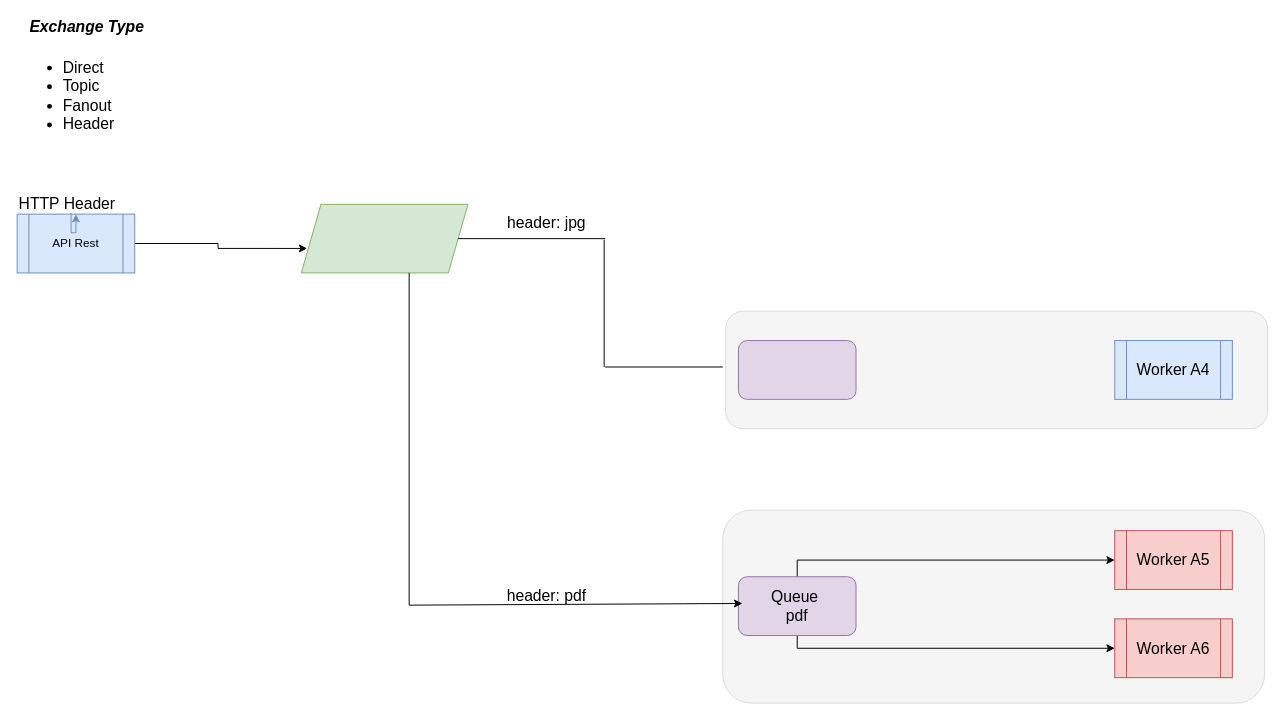
Some shapes in this 1285 by 720 pixel diagram are drawn without their labels. Here are the shapes that lost their labels. From the top down, the centre of each, then its label:
(x=384, y=238): Exchange Type Headers
(x=796, y=369): Queue jpg
